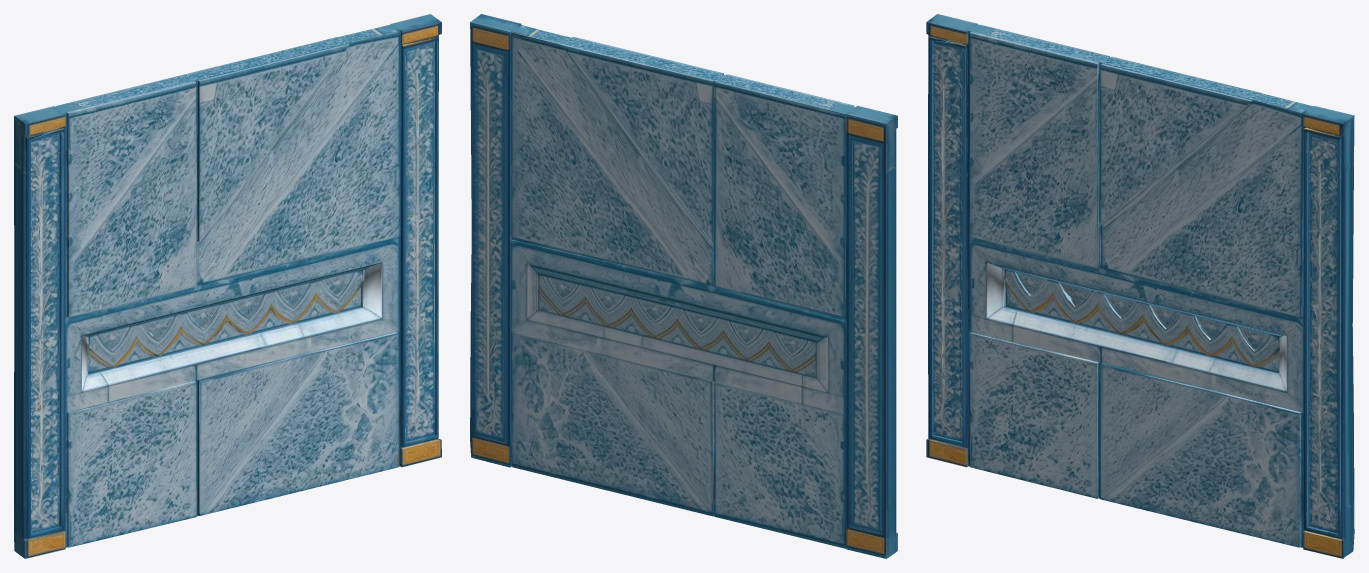
The model's file is blk_city_wall.glb.
3 views of the same model, side by side, from view 1: azimuth 30°, elevation 25°; view 2: azimuth 150°, elevation 25°; view 3: azimuth 330°, elevation 25° (orthographic).
Size of the model in its own units: 0.9497 by 0.9497 by 0.0459.
Materials: 1 (1 with a texture image).
